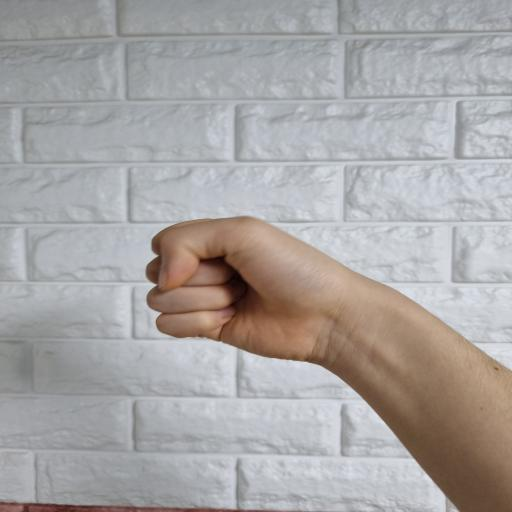Rock: (144, 216, 357, 364)
